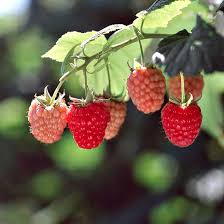ripe: (66, 95, 110, 153), (162, 98, 204, 150)
unripe: (27, 86, 69, 147), (126, 65, 169, 119), (168, 66, 206, 104), (99, 97, 130, 142)
